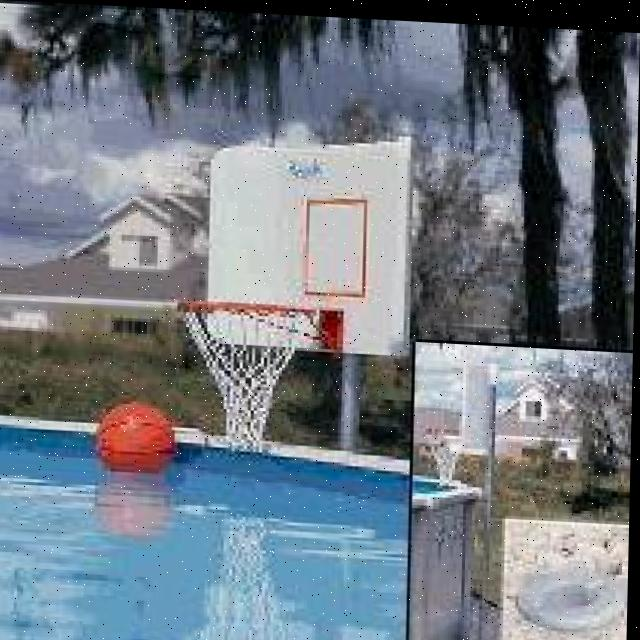hoop: (160, 286, 387, 467)
